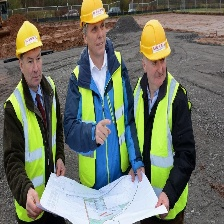helmet: (137, 18, 175, 64), (14, 20, 45, 60), (79, 5, 111, 35)
person: (72, 1, 134, 224), (3, 14, 67, 224), (132, 20, 185, 224)
vest: (129, 76, 197, 224), (70, 58, 134, 213), (6, 86, 67, 224)
